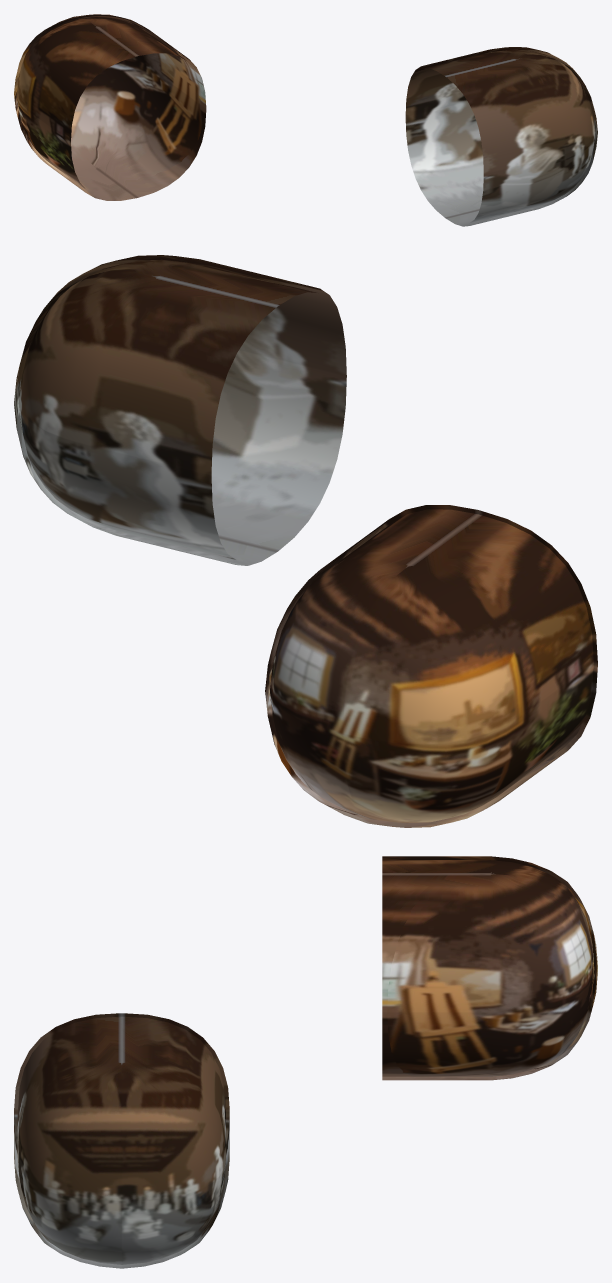
File: falsi-v1.glb
3 views of the same model, one above another, from view 1: azimuth 30°, elevation 25°; view 2: azimuth 150°, elevation 25°; view 3: azimuth 270°, elevation 25° (orthographic). The views are drawn at different scales.
Visible parts, largest first — view 1: Box106, Box105; view 2: Box105, Box106; view 3: Box105, Box106.
Part boxes in pixels (x1,y1,x2,y2): Box106: (14, 14, 206, 200); Box105: (405, 47, 597, 226); Box105: (14, 255, 346, 565); Box106: (265, 505, 597, 827); Box105: (14, 1013, 229, 1268); Box106: (382, 856, 597, 1080).
Size of the model in its own units: 6.99 by 2.33 by 6.22.
2 materials, 2 textured.
